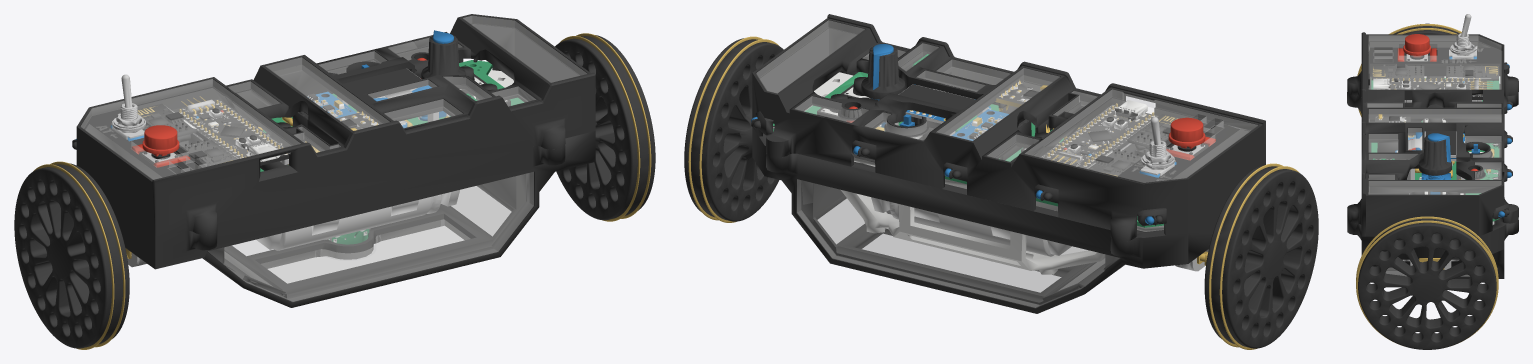
Rendered from AutoMicro_EMBEDDED.glb.
3 renders of one model, left to right at view 1: azimuth 30°, elevation 25°; view 2: azimuth 150°, elevation 25°; view 3: azimuth 270°, elevation 25°, orthographic. The views are drawn at different scales.
Parts seen in each view (by area): view 1: EMB_Chassis, EMB_Acrylic_Top, EMB_Acrylic_Bottom, EMB_Wheel_L, EMB_Wheel_R, EMB_Electronics, EMB_STM32, EMB_ESP, EMB_OLED, EMB_MPU; view 2: EMB_Chassis, EMB_Acrylic_Top, EMB_Acrylic_Bottom, EMB_Wheel_L, EMB_Electronics, EMB_Wheel_R, EMB_STM32, EMB_TCRT_Sensors, EMB_ESP, EMB_OLED, EMB_MPU; view 3: EMB_Chassis, EMB_Wheel_R, EMB_Acrylic_Top, EMB_Electronics, EMB_STM32, EMB_ESP, EMB_OLED, EMB_TCRT_Sensors, EMB_Wheel_L.
Part boxes in pixels (bbox=[...]): EMB_Chassis: bbox=[76, 14, 595, 307]; EMB_Acrylic_Top: bbox=[81, 16, 587, 179]; EMB_Acrylic_Bottom: bbox=[208, 172, 533, 301]; EMB_Wheel_L: bbox=[14, 161, 129, 349]; EMB_Wheel_R: bbox=[555, 33, 655, 221]; EMB_Electronics: bbox=[110, 30, 524, 267]; EMB_STM32: bbox=[172, 96, 289, 170]; EMB_ESP: bbox=[137, 104, 236, 166]; EMB_OLED: bbox=[337, 68, 438, 122]; EMB_MPU: bbox=[292, 91, 356, 128]; EMB_Chassis: bbox=[752, 14, 1265, 313]; EMB_Acrylic_Top: bbox=[756, 20, 1257, 182]; EMB_Acrylic_Bottom: bbox=[797, 179, 1118, 307]; EMB_Wheel_L: bbox=[1204, 163, 1318, 349]; EMB_Electronics: bbox=[773, 44, 1215, 274]; EMB_Wheel_R: bbox=[684, 36, 783, 222]; EMB_STM32: bbox=[1040, 100, 1158, 168]; EMB_TCRT_Sensors: bbox=[751, 111, 1166, 225]; EMB_ESP: bbox=[1087, 114, 1179, 176]; EMB_OLED: bbox=[894, 84, 988, 140]; EMB_MPU: bbox=[952, 109, 1031, 160]; EMB_Chassis: bbox=[1347, 32, 1518, 278]; EMB_Wheel_R: bbox=[1356, 216, 1498, 349]; EMB_Acrylic_Top: bbox=[1367, 35, 1501, 194]; EMB_Electronics: bbox=[1371, 14, 1499, 269]; EMB_STM32: bbox=[1373, 78, 1492, 107]; EMB_ESP: bbox=[1371, 62, 1498, 80]; EMB_OLED: bbox=[1407, 131, 1465, 179]; EMB_TCRT_Sensors: bbox=[1490, 62, 1512, 219]; EMB_Wheel_L: bbox=[1357, 23, 1461, 116].
Size of the model in its own units: 0.2238 by 0.0883 by 0.0806.
